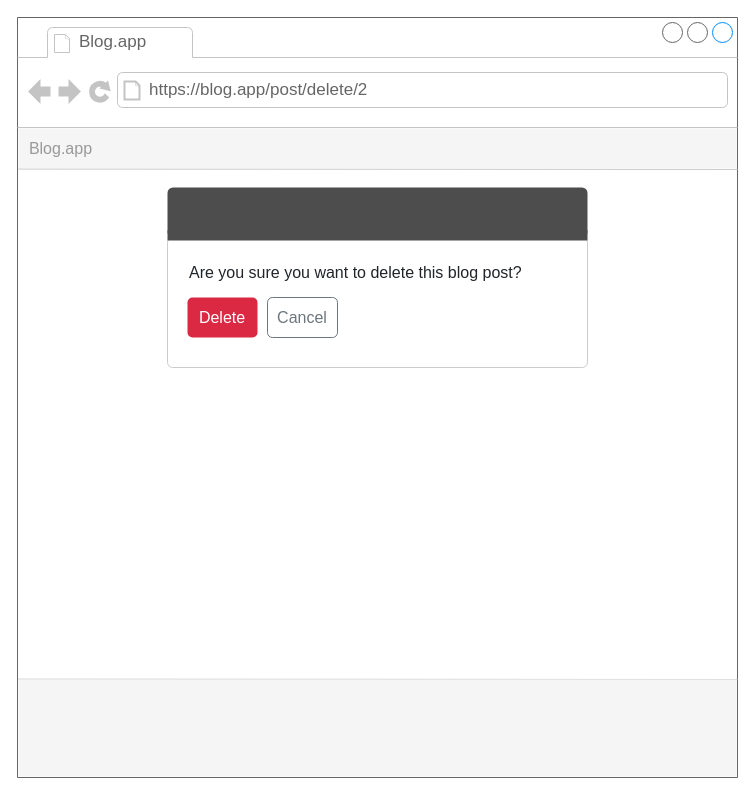
The diagram is 756 pixels wide and 795 high, and some of its shapes have lost their labels. The shapes that lost their labels are listed below. From the top down, each one's centre as x and y in pixels, then its label:
At pixel 377 212: "Delete post".
At pixel 377 727: "Footer information comes here".
